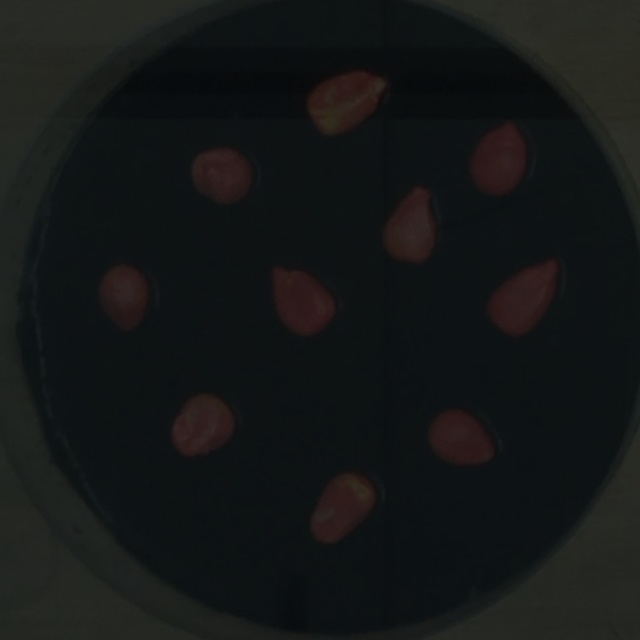Zea mays: (480, 250, 567, 344), (299, 62, 394, 144), (302, 465, 385, 552), (263, 257, 343, 343), (460, 111, 533, 203), (372, 178, 443, 271), (162, 385, 243, 465), (421, 402, 503, 474), (184, 139, 260, 212), (91, 255, 154, 340)
